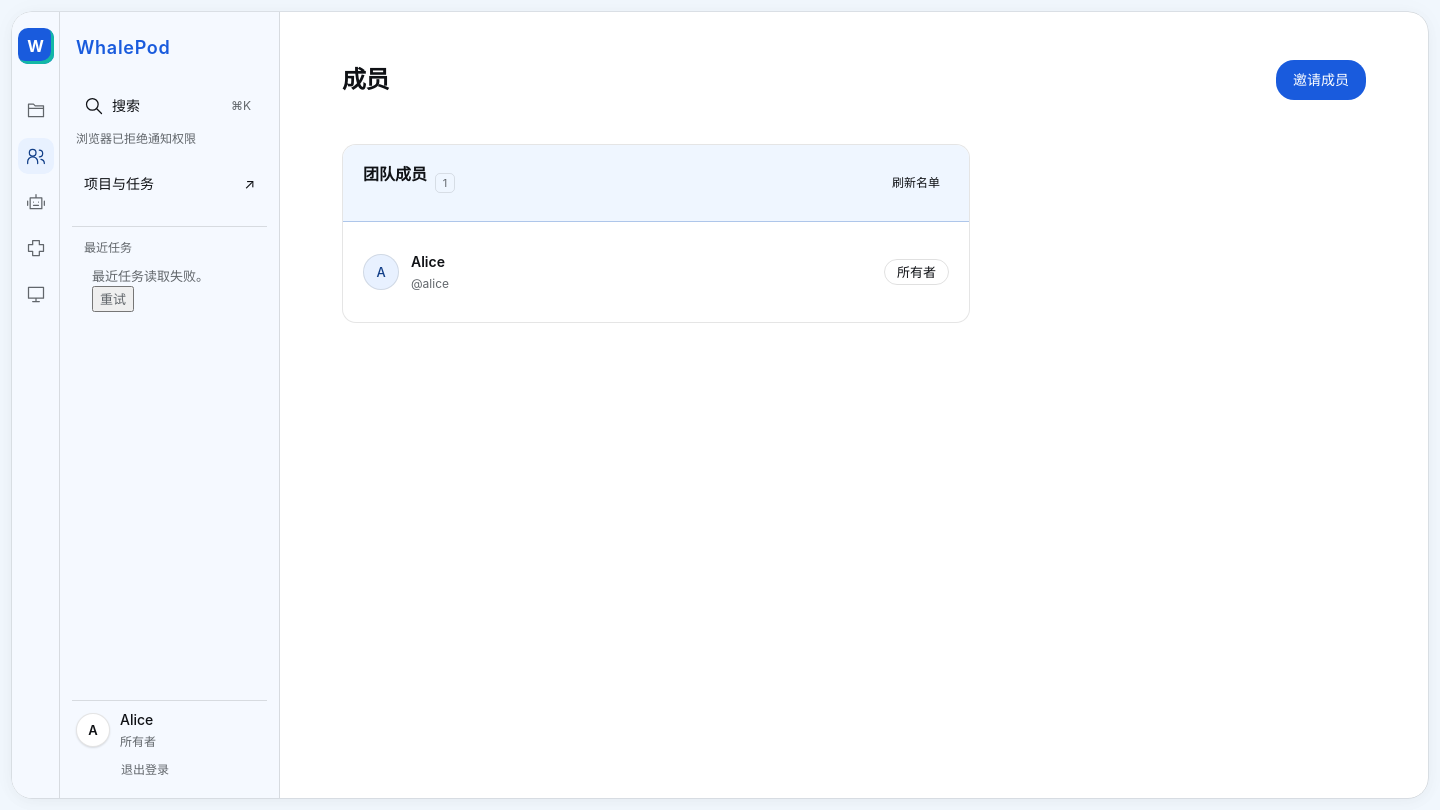
Scenario: #158 契约面：键盘可达 + aria 语义 › Esc 关闭并把焦点还给触发器；Esc 不改值
The width and height of the screenshot is (1440, 810).
Click the button "邀请成员" at point(1321, 80), box [1276,60,1366,100]
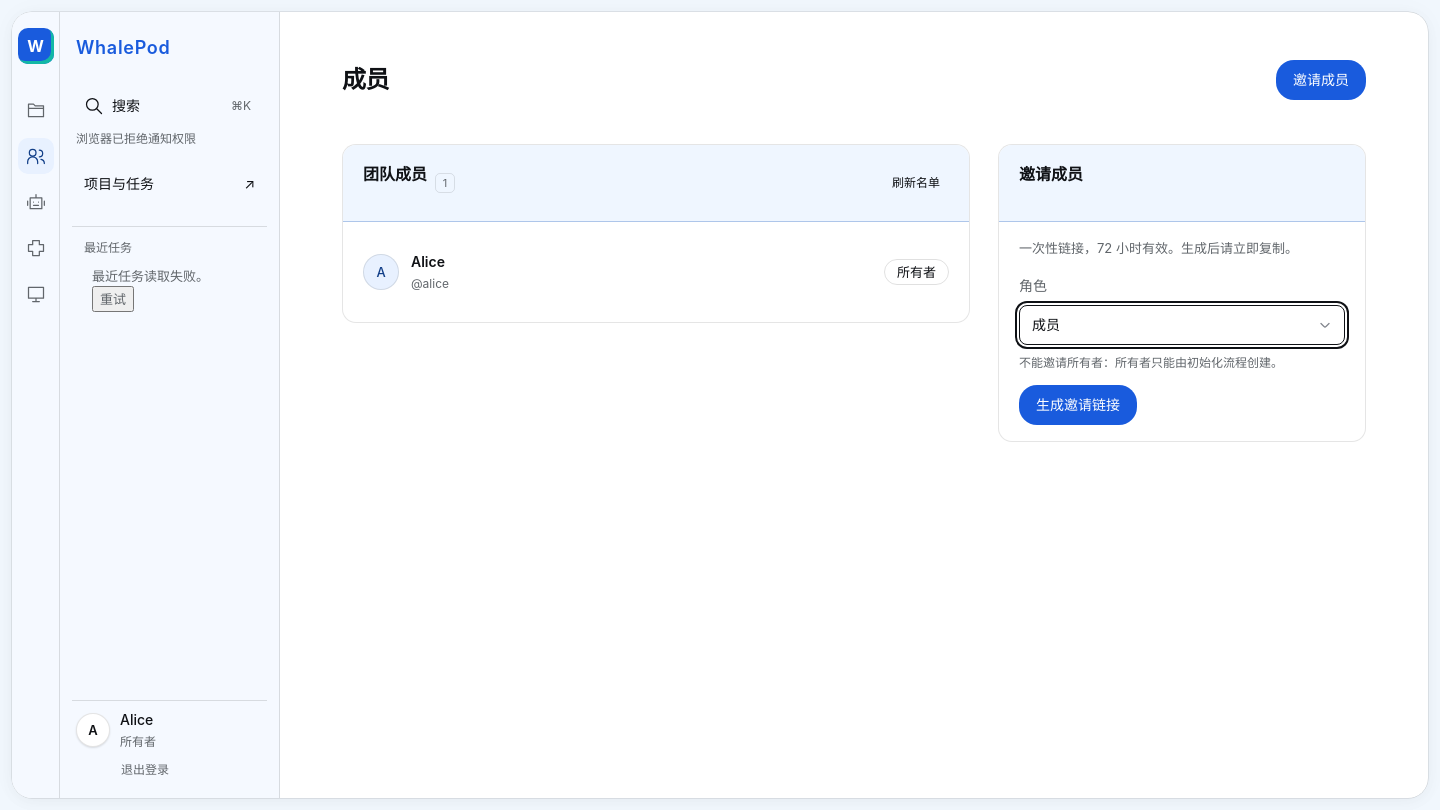
Press Enter
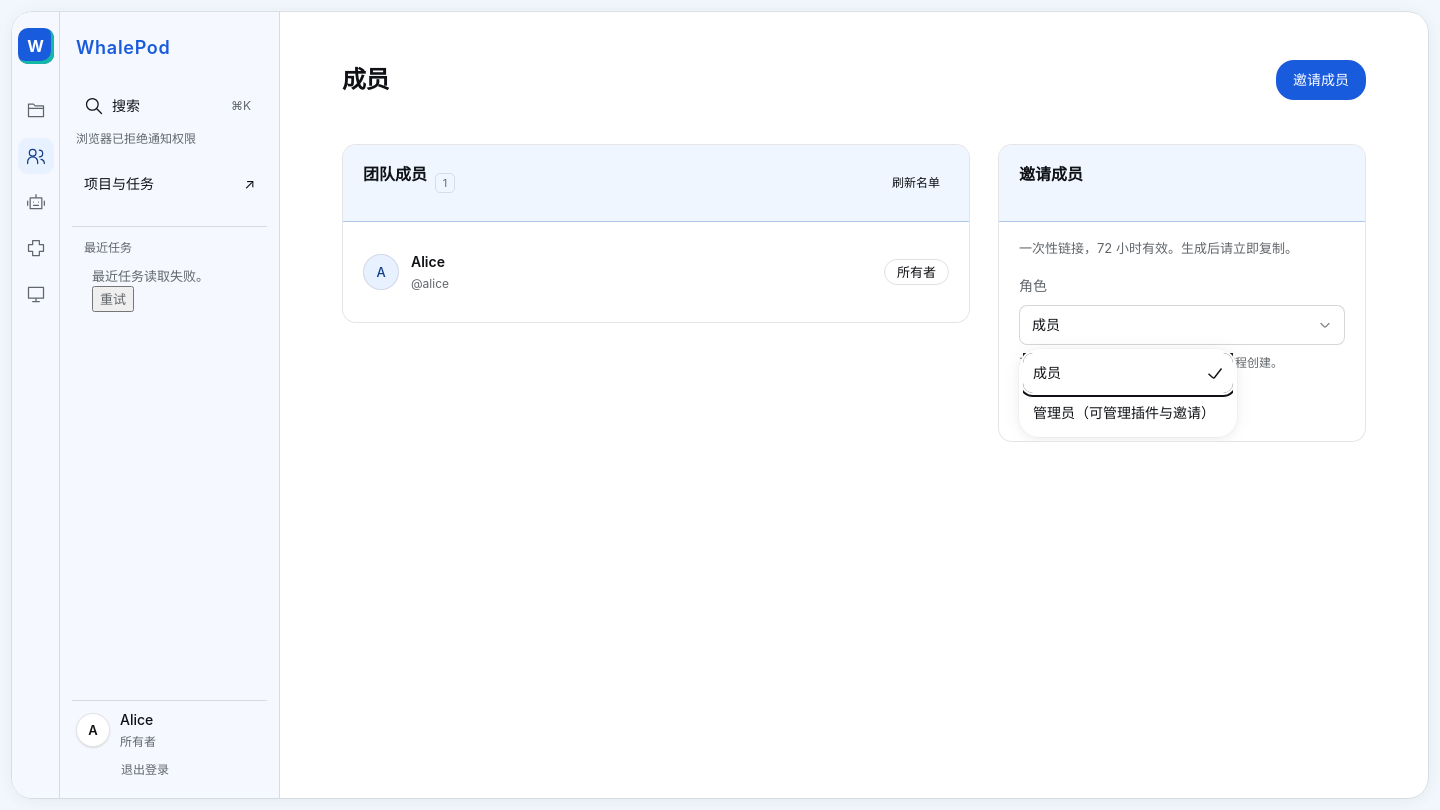
expect the menu is shown: met, box [1019,349,1237,437]
Press Escape
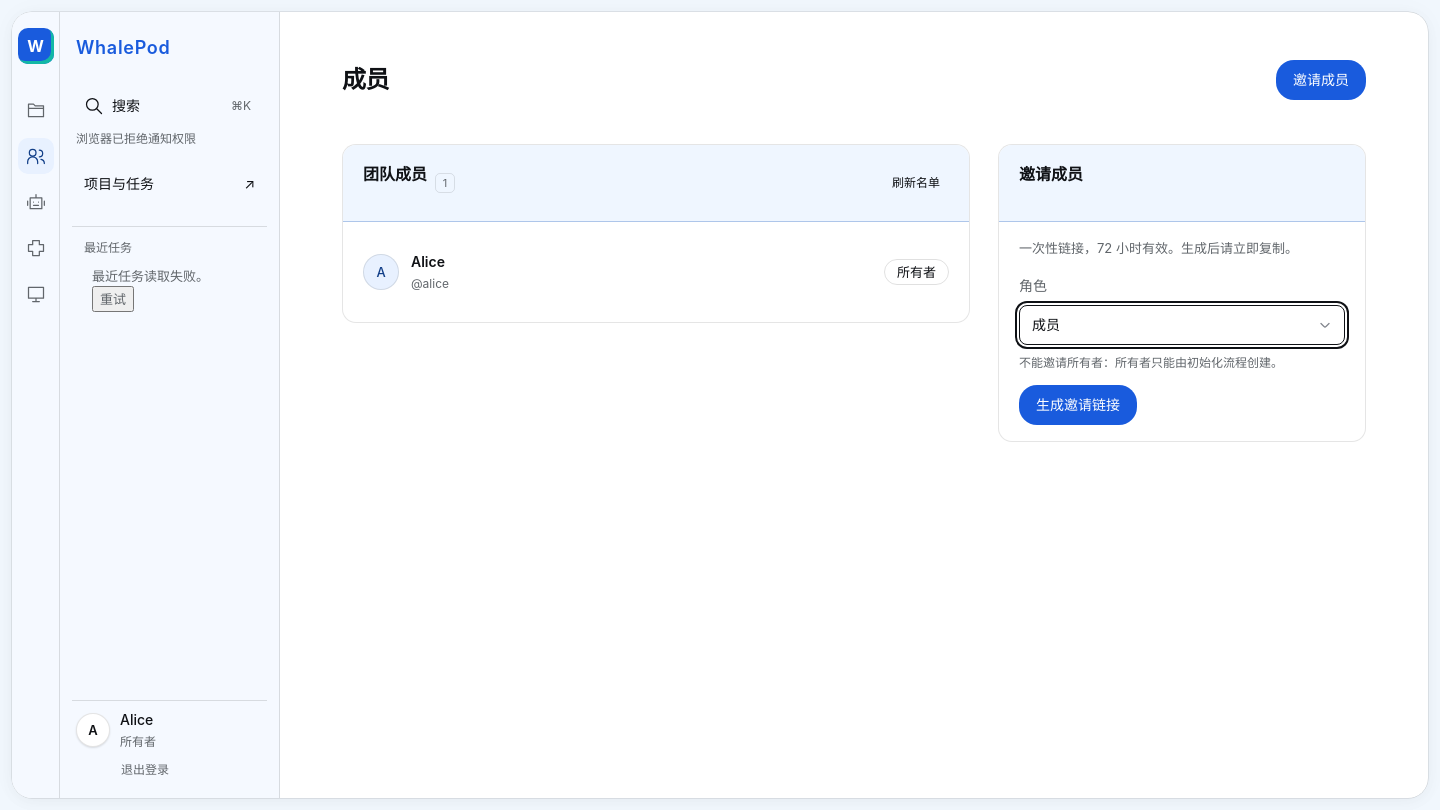
expect the button named "角色" reads "成员": met, box [1019,305,1345,345]
expect the menu is gone: met
